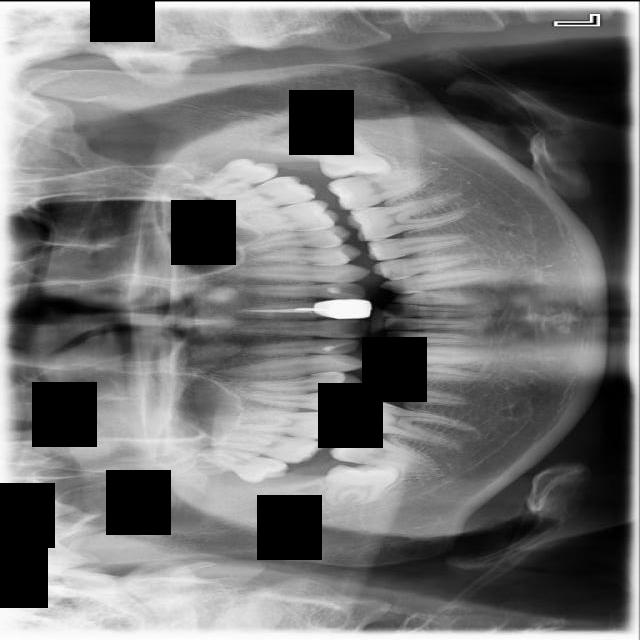3M ESPE Implant: (193, 442, 290, 489)
52: (312, 297, 372, 319), (316, 282, 365, 298), (312, 338, 360, 353)
73: (234, 301, 323, 319), (604, 10, 615, 20)
BioHorizons Implant: (198, 168, 319, 226)
BioLife Implant: (181, 145, 282, 207)
Biomet 3i Implant: (308, 125, 392, 180)
Blue Sky Bio Implant: (326, 161, 442, 214)
Caries: (202, 425, 326, 466)
Implant: (327, 424, 439, 479)
Keystone Dental Implant: (324, 463, 399, 506)
